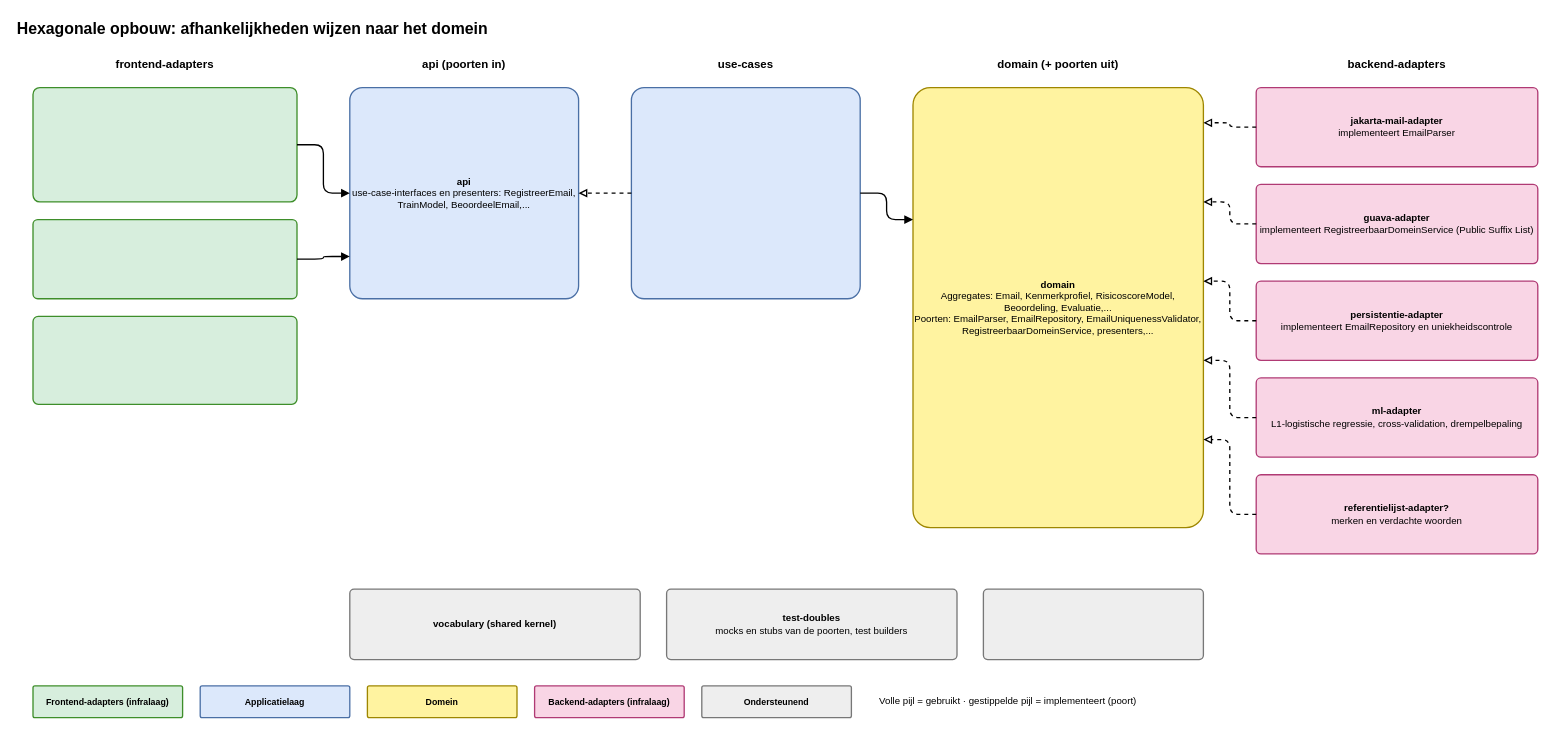
Some shapes in this 1553 by 733 pixel diagram are drawn without their labels. The box of each missing label's shape, as (x1, y1, x2, y2) in pixels:
acceptance-tests blackbox tests tegen de api: (32, 219, 297, 299)
cli-adapter picocli-commando's: registreer, train, beoordeel, cli presenters: (32, 87, 297, 202)
dataset-script Bash: consolidatie, MD5-controle, manifest: (32, 315, 297, 405)
scripts: (982, 588, 1204, 660)
use-cases RegistreerEmailUseCase, TrainModelUseCase, BeoordeelEmailUseCase,...: (630, 87, 860, 299)
